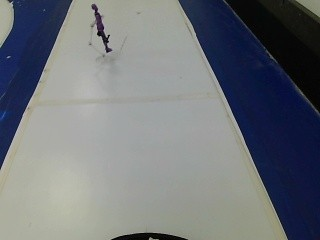pedestrian: (77, 0, 122, 59)
